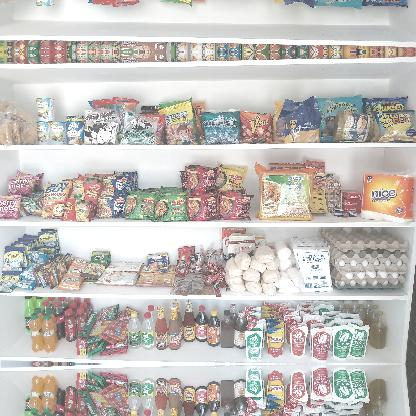Lady-s-Choice: (332, 110, 370, 142)
